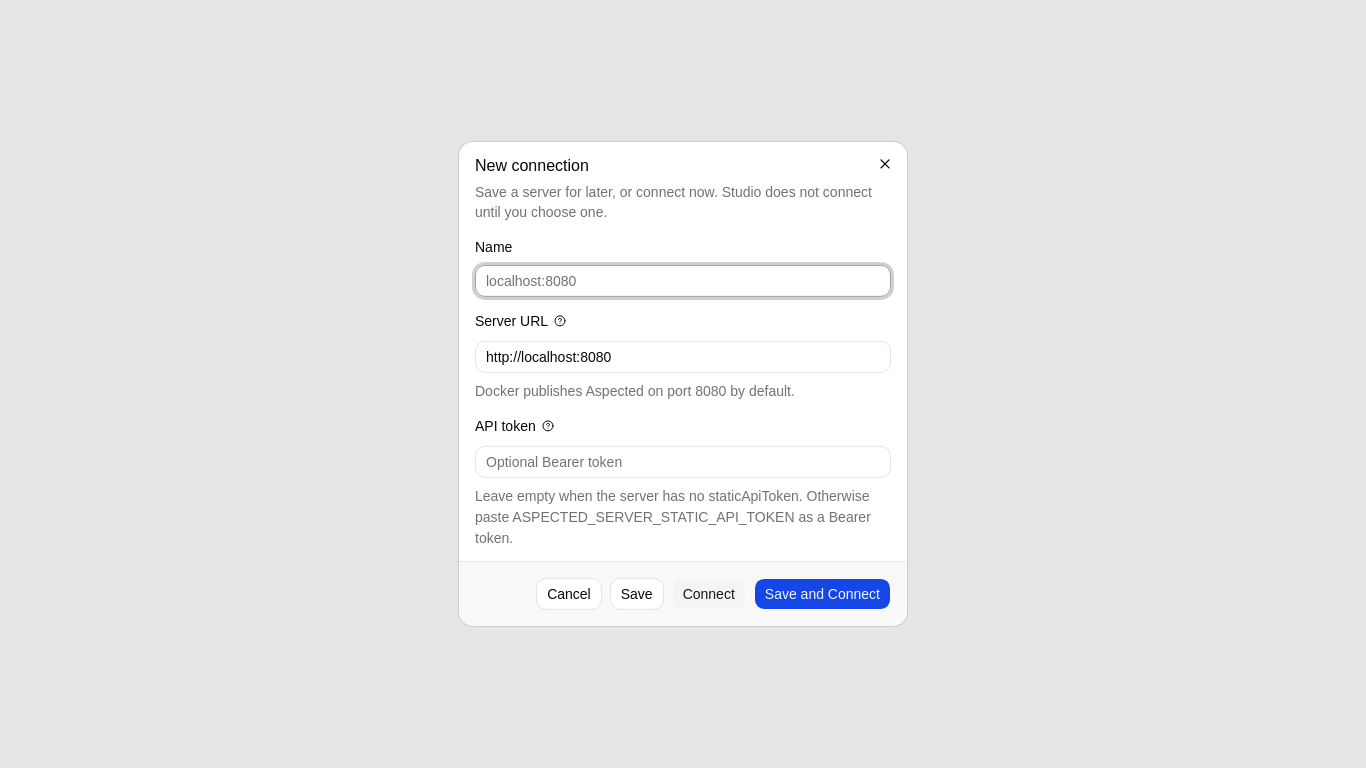
ConnectionDialog › shows an inline error when Server URL is not a valid URL
The image size is (1366, 768).
Type "not-a-url" into the field labelled "Server URL". click: (683, 357)
box: x1=475 y1=341 x2=891 y2=373
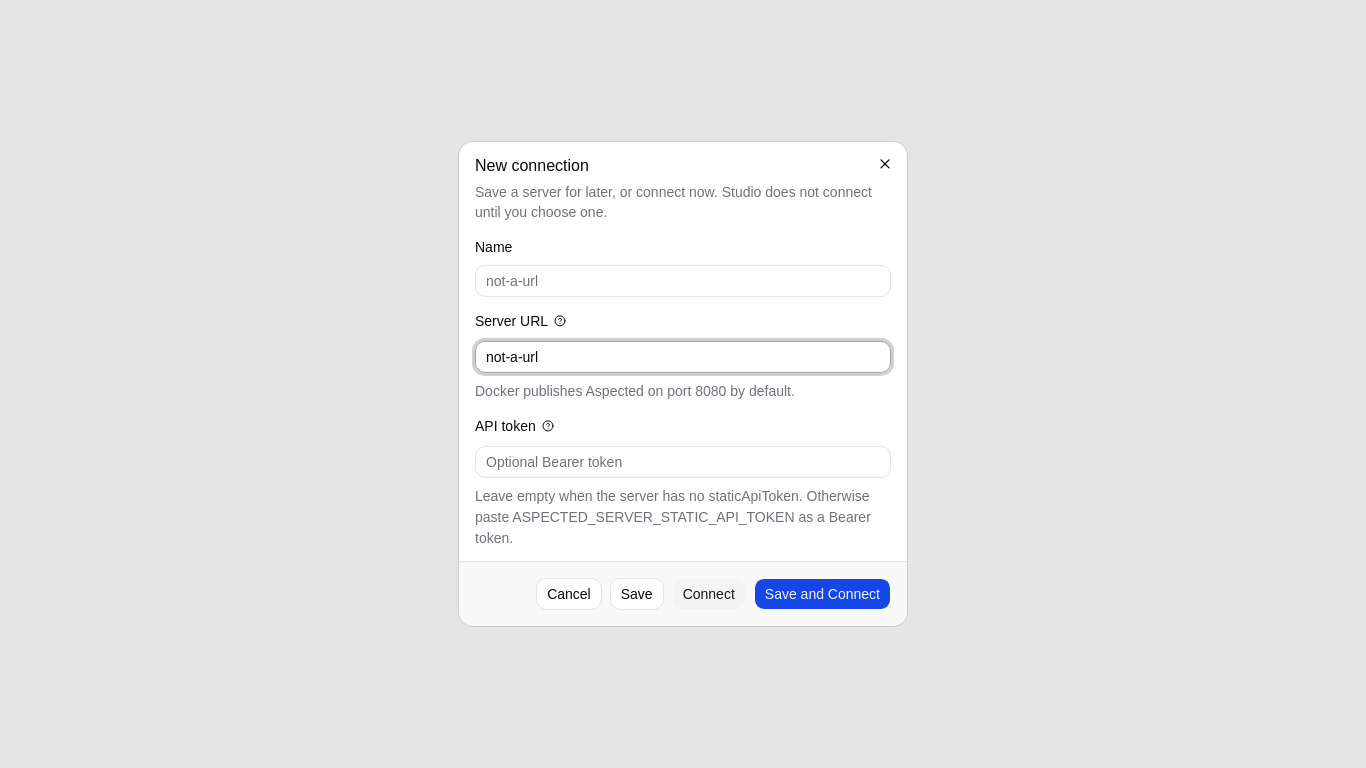
Click the button "Save". click: (637, 594)
box: x1=610 y1=578 x2=664 y2=610
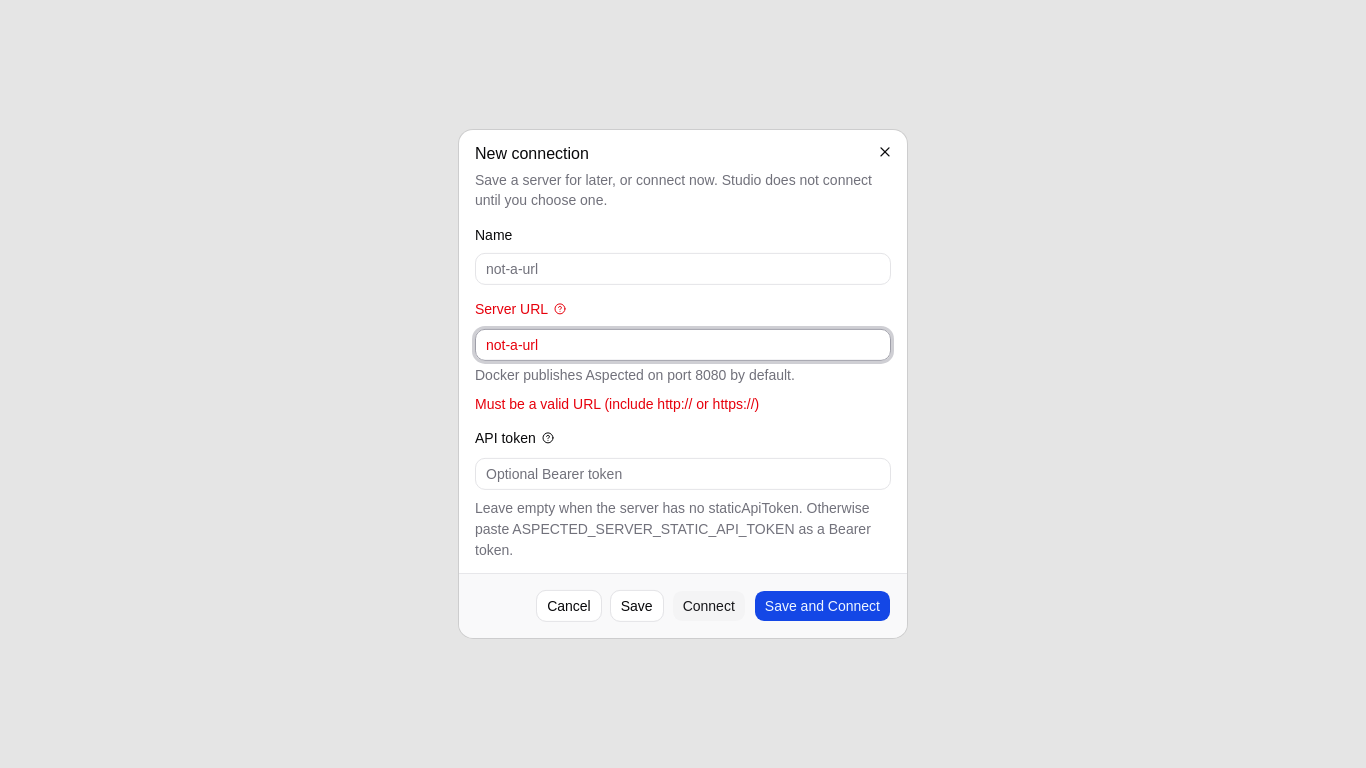
Now the text "Must be a valid URL (include http:// or https://)" is shown, box x1=475 y1=396 x2=759 y2=412
